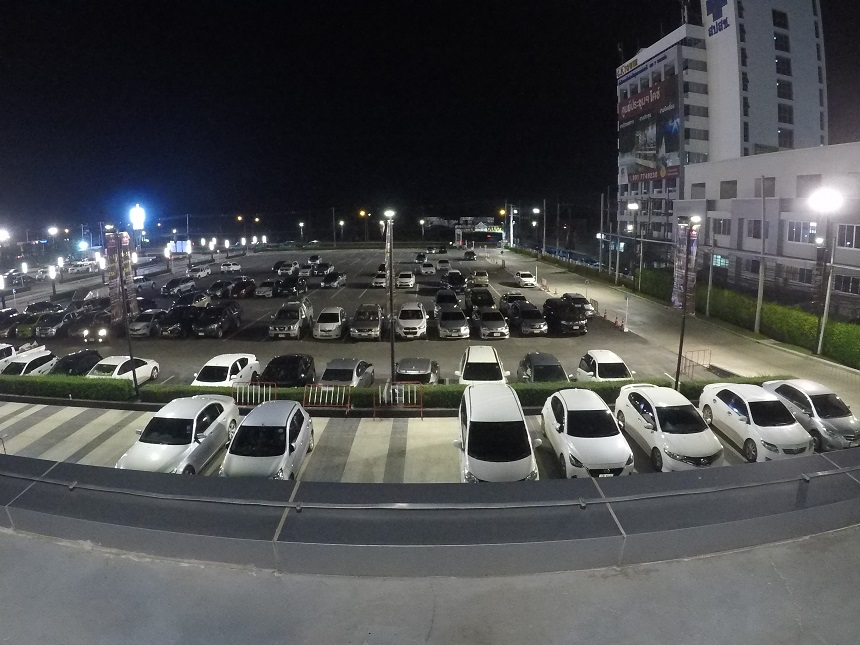busy: (134, 413, 217, 468), (459, 433, 539, 477), (549, 432, 633, 471), (234, 427, 305, 473), (646, 432, 726, 466), (743, 426, 807, 457), (815, 409, 860, 444), (456, 351, 512, 379), (205, 351, 253, 382), (107, 354, 160, 382), (323, 352, 371, 382), (516, 351, 563, 378), (268, 355, 313, 380), (581, 353, 624, 378), (399, 352, 439, 378), (555, 311, 590, 337), (272, 313, 303, 338), (13, 358, 49, 376), (435, 318, 469, 337), (316, 314, 342, 338), (478, 315, 509, 335), (64, 353, 96, 372), (159, 313, 185, 336), (396, 313, 423, 335), (197, 316, 225, 336), (353, 317, 380, 337), (92, 317, 119, 336), (128, 318, 153, 338), (518, 318, 547, 334), (69, 320, 88, 339), (36, 324, 59, 338), (1, 340, 22, 355), (17, 324, 34, 336), (1, 321, 12, 336)
